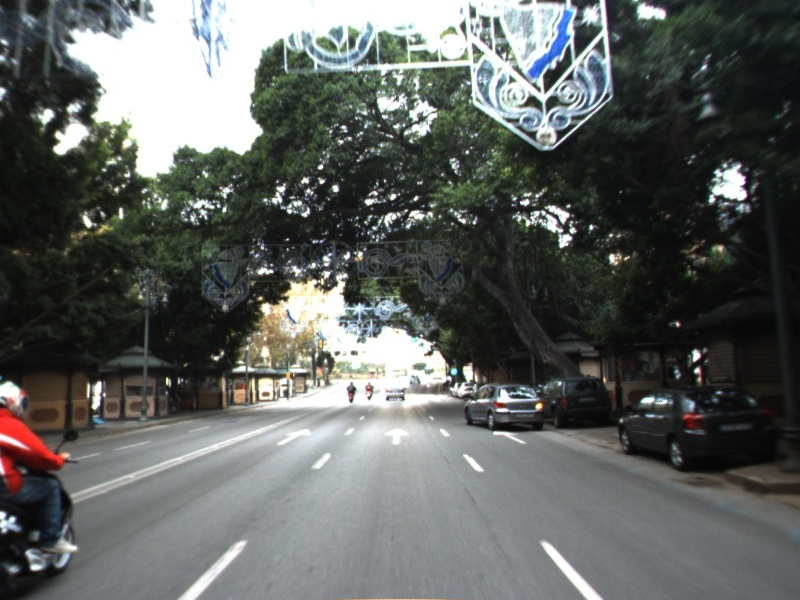STRAIGHT: (274, 426, 314, 447), (491, 428, 529, 446), (382, 426, 412, 446)
